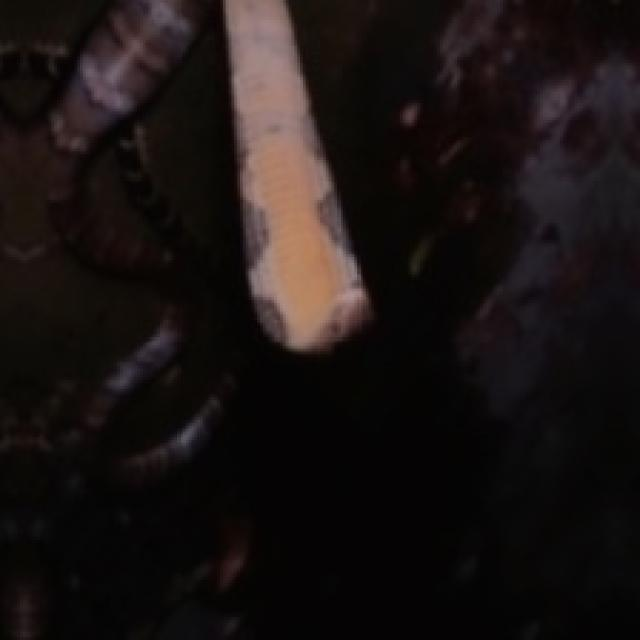king cobra: (224, 0, 370, 351)
